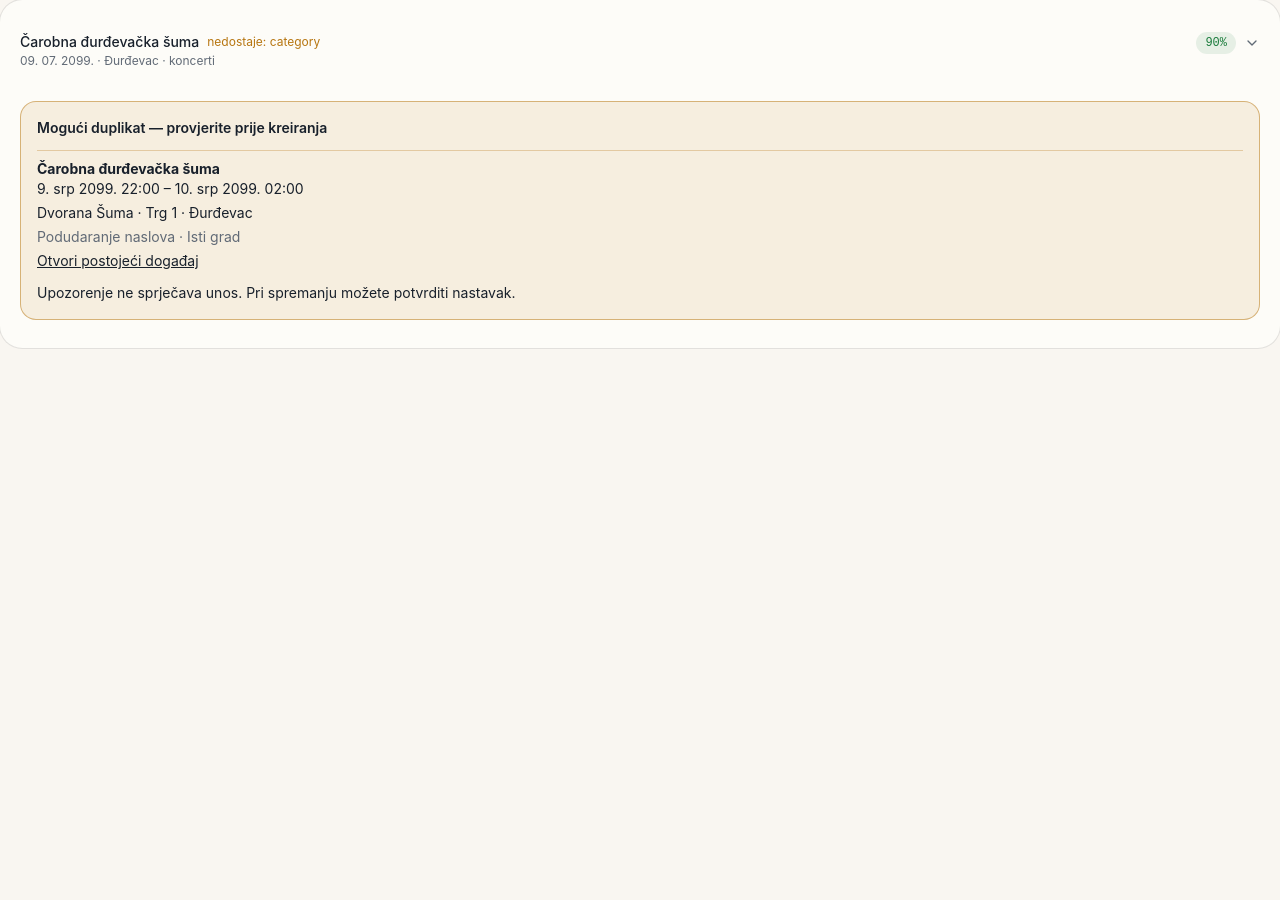
Test case: actual creation forms › parsed review checks the edited candidate before import and shows preview even when collapsed
Later steps or results of the test are not shown.
Expected: the link to "/admin/events/44" is shown, [37,252,199,269]
Click the button.
click(110, 42)  # box [0,16,1279,85]
(page scrolled)
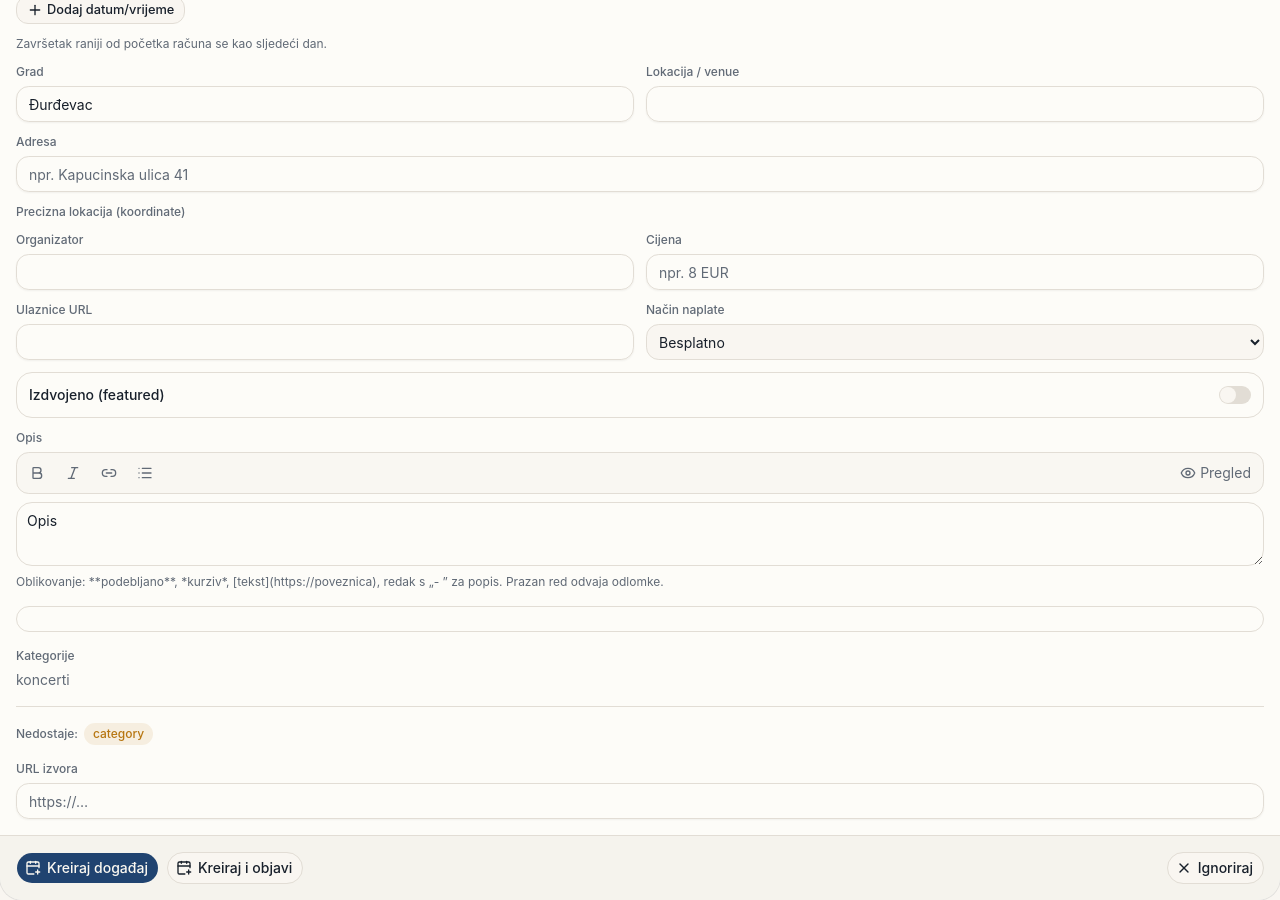
Now the button "Kreiraj i objavi" is shown
Click the button "Kreiraj i objavi".
click(235, 868)  # box [167,852,303,884]
(page scrolled)
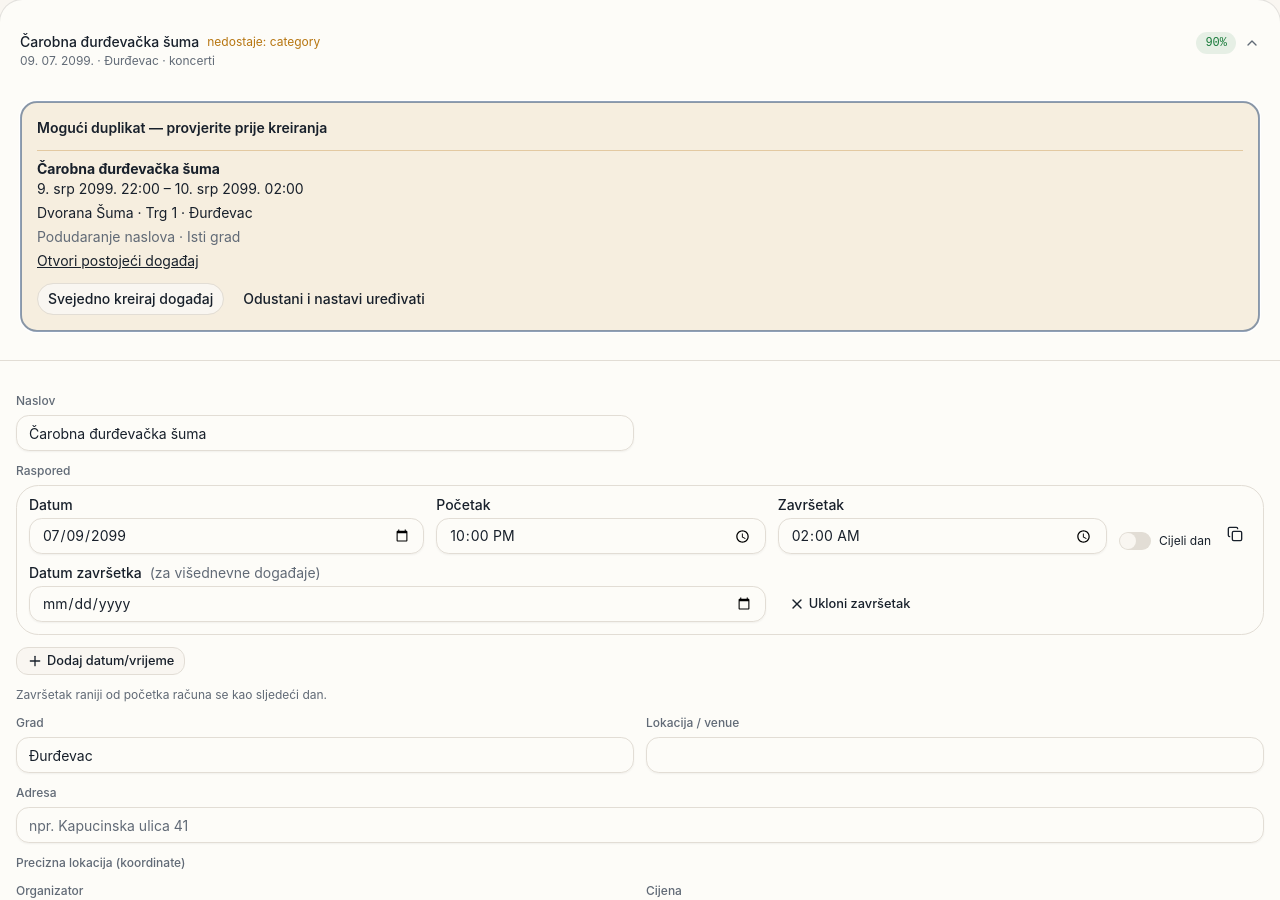
Now the button "Svejedno kreiraj događaj" is shown, box [37,283,224,315]
